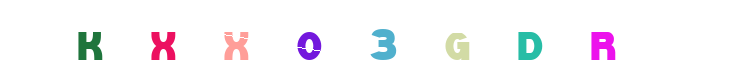3: (331, 0, 411, 80)
D: (403, 0, 483, 80)
G: (389, 0, 469, 80)
K: (49, 0, 129, 80)
O: (269, 0, 349, 80)
R: (562, 0, 642, 80)
X: (123, 0, 203, 80), (222, 0, 302, 80)
